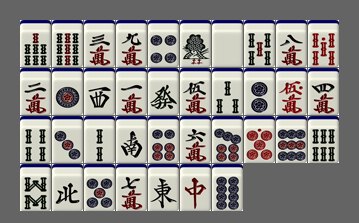0m: (276, 68, 307, 115)
0p: (244, 116, 275, 163)
0s: (308, 20, 339, 67)
1m: (116, 68, 147, 115)
1p: (52, 68, 83, 115)
1s: (180, 20, 211, 67)
1z: (148, 164, 179, 211)
2m: (20, 68, 51, 115)
2p: (244, 68, 275, 115)
2s: (84, 116, 115, 163)
2z: (116, 116, 147, 163)
3m: (84, 20, 115, 67)
3p: (52, 116, 83, 163)
3s: (212, 68, 243, 115)
3z: (84, 68, 115, 115)
4m: (308, 68, 339, 115)
4p: (148, 20, 179, 67)
4s: (20, 116, 51, 163)
4z: (52, 164, 83, 211)
5m: (180, 68, 211, 115)
5p: (84, 164, 115, 211)
5s: (244, 20, 275, 67)
5z: (212, 20, 243, 67)
6m: (180, 116, 211, 163)
6p: (148, 116, 179, 163)
6s: (308, 116, 339, 163)
6z: (148, 68, 179, 115)
7m: (116, 164, 147, 211)
7p: (212, 116, 243, 163)
7s: (20, 20, 51, 67)
7z: (180, 164, 211, 211)
8m: (276, 20, 307, 67)
8p: (212, 164, 243, 211)
8s: (20, 164, 51, 211)
9m: (116, 20, 147, 67)
9p: (276, 116, 307, 163)
9s: (52, 20, 83, 67)
